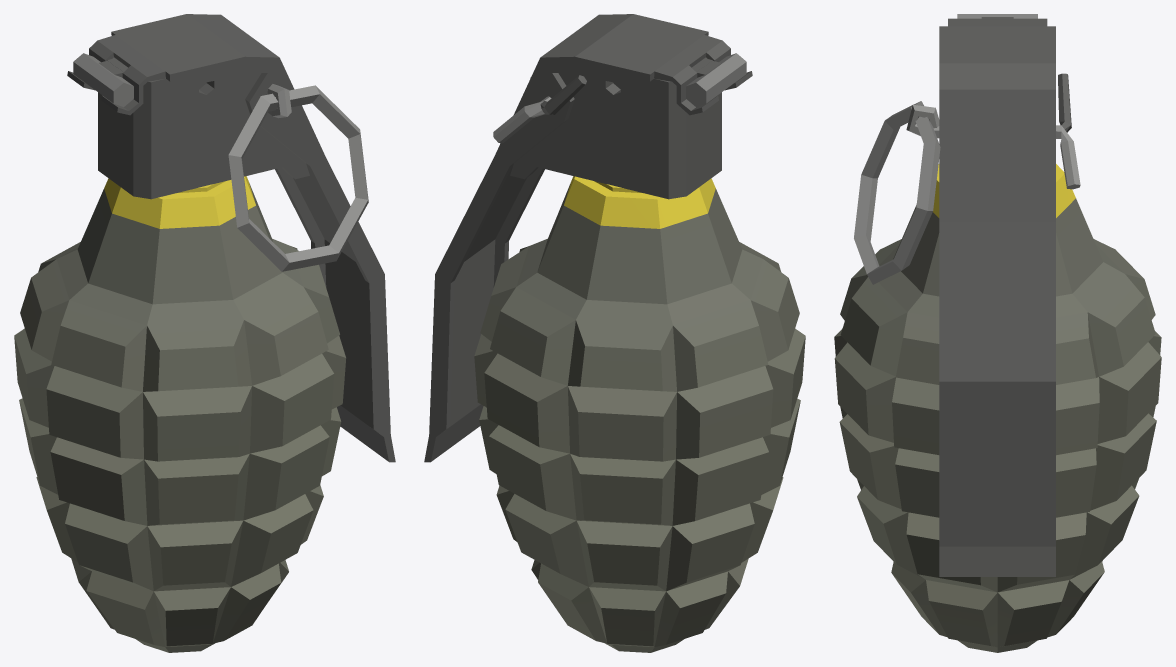
File: SM_Bomb_04.fbx
3 renders of one model, left to right at view 1: azimuth 30°, elevation 25°; view 2: azimuth 150°, elevation 25°; view 3: azimuth 270°, elevation 25°, orthographic.
Visible parts, largest first — view 1: SM_Bomb_04; view 2: SM_Bomb_04; view 3: SM_Bomb_04.
Part boxes in pixels (x1,y1,x2,y2): SM_Bomb_04: (14,14,395,652); SM_Bomb_04: (424,14,805,652); SM_Bomb_04: (834,14,1161,652).
Bounding box in the file's own units: 2.87 × 4.93 × 2.48.
Materials: 1 (1 with a texture image).
